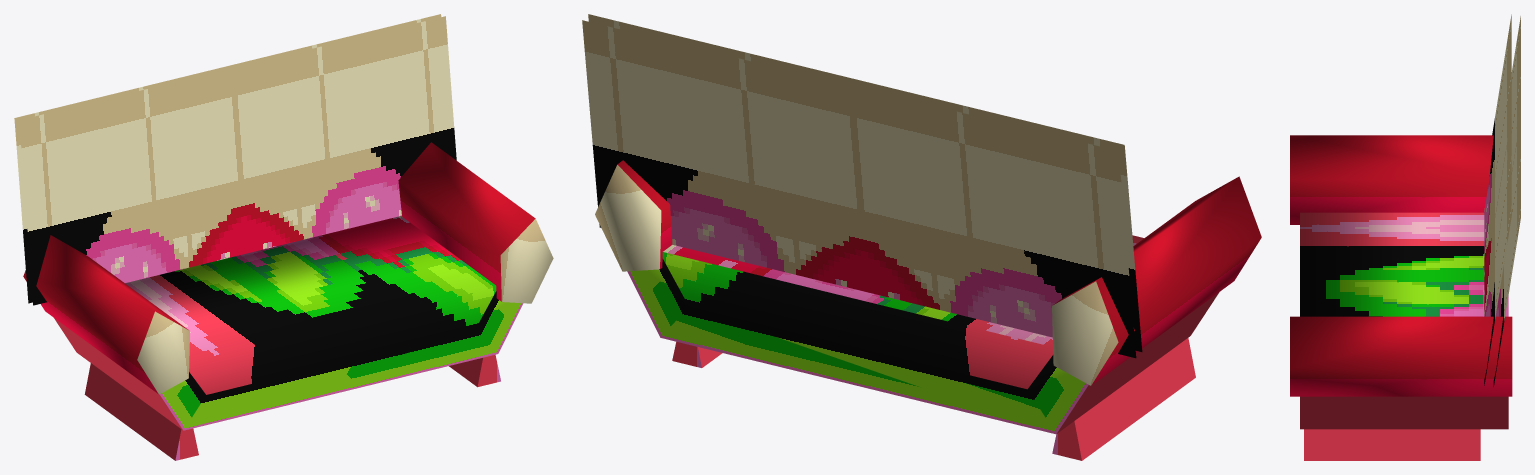
3 views of the same model, side by side, from view 1: azimuth 30°, elevation 25°; view 2: azimuth 150°, elevation 25°; view 3: azimuth 270°, elevation 25° (orthographic). The views are drawn at different scales.
Visible parts, largest first — view 1: 3694kg_it_sof; view 2: 3694kg_it_sof; view 3: 3694kg_it_sof.
Boxes of the visible parts, box(x1,y1,x2,y2) form: 3694kg_it_sof: box(14, 14, 553, 460); 3694kg_it_sof: box(582, 14, 1261, 460); 3694kg_it_sof: box(1290, 14, 1520, 460).
Bounding box in the file's own units: 2 × 1.23 × 0.9597.
Materials: 1 (1 with a texture image).
